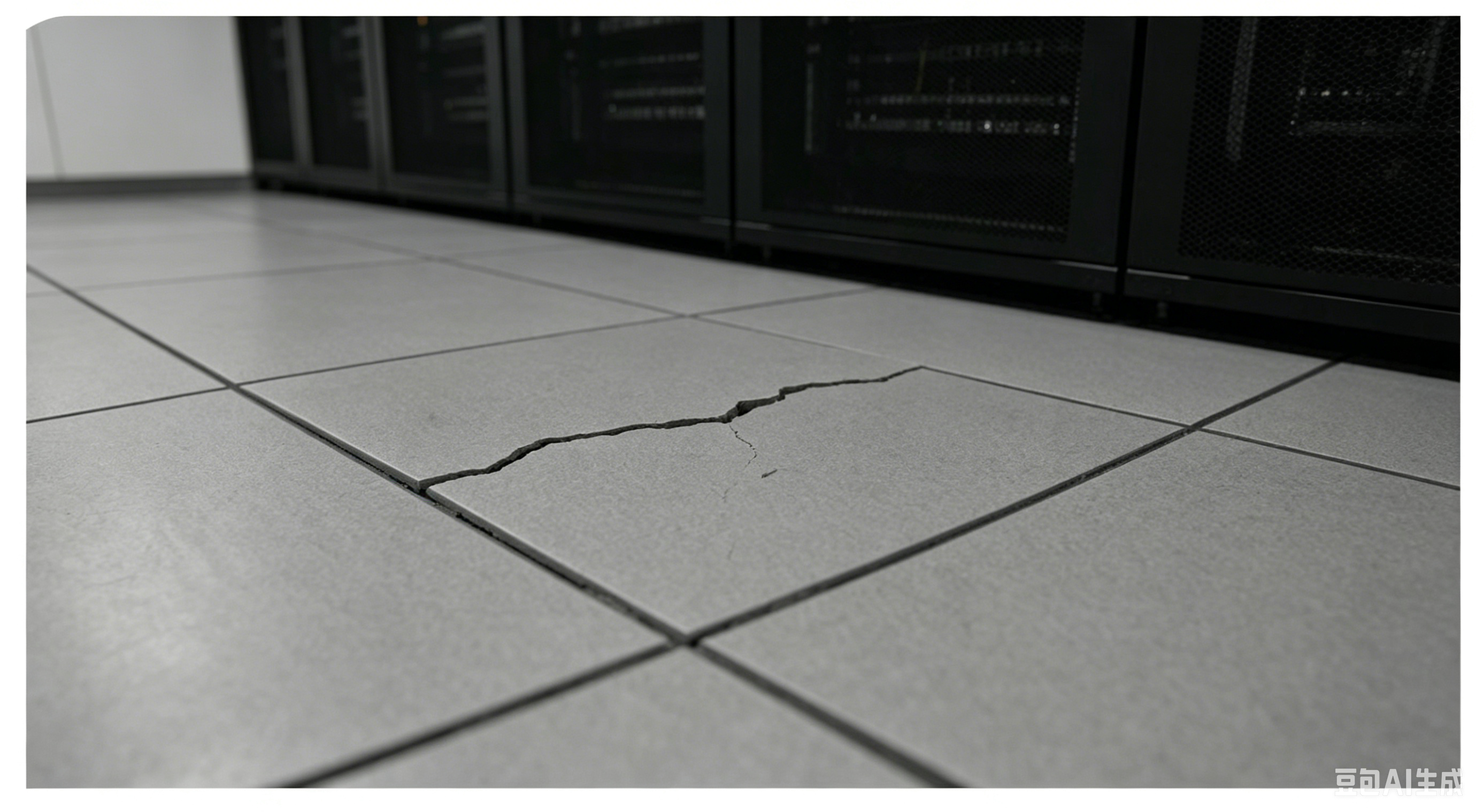floor_defect: (377, 421, 678, 488), (646, 378, 830, 432), (804, 347, 926, 407), (721, 435, 756, 575)
